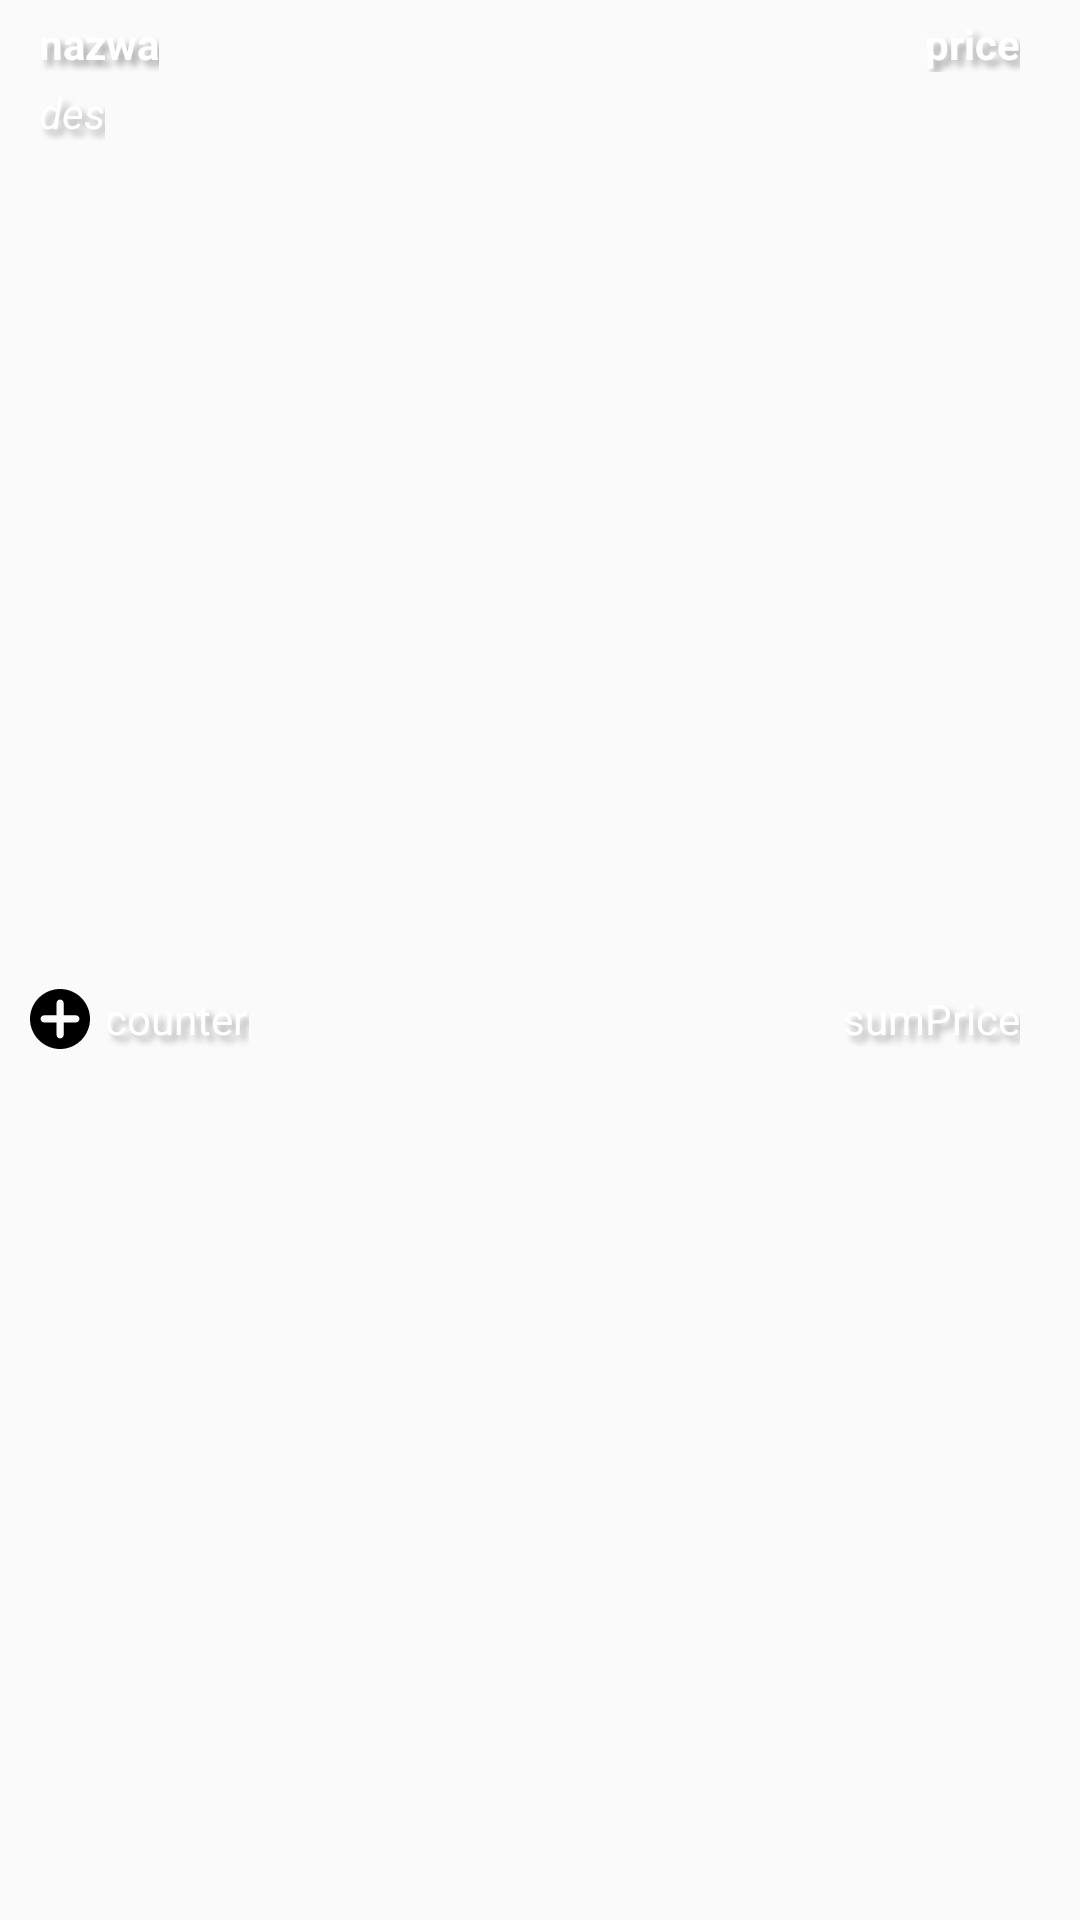

Where to tap for icons on this 1080x1920 app screen, as [x,y]:
add: [60,1019]
